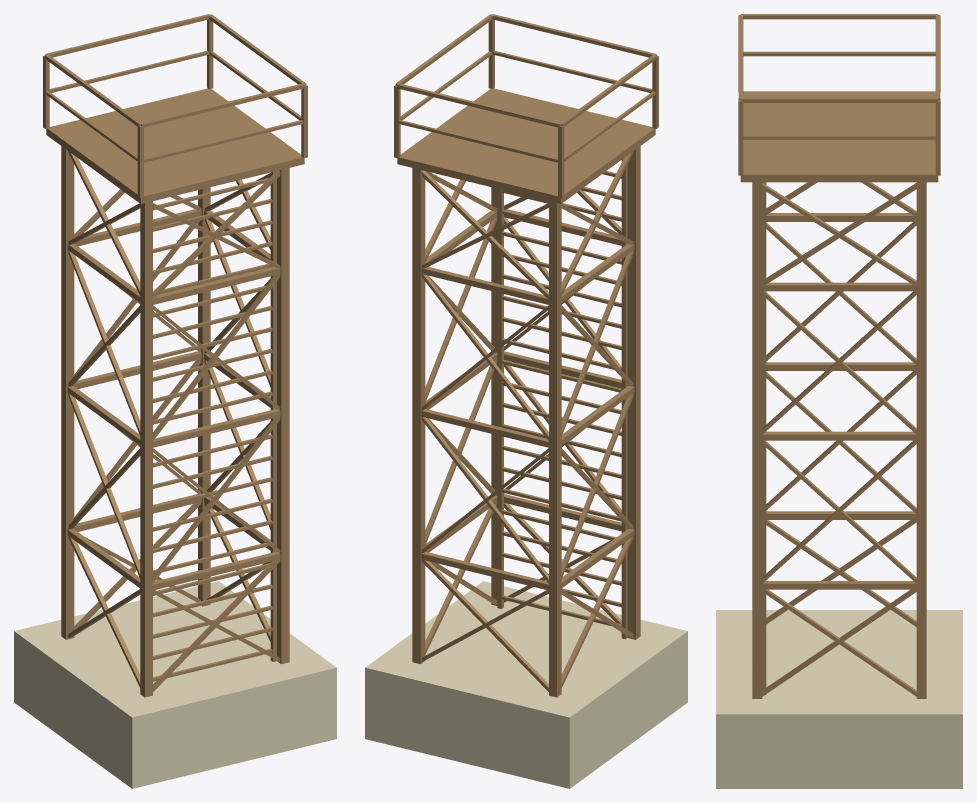
The model's file is observation_tower.glb.
The picture shows the model from 3 angles, left to right: view 1: azimuth 30°, elevation 25°; view 2: azimuth 150°, elevation 25°; view 3: azimuth 270°, elevation 25°; orthographic projection. The views are drawn at different scales.
Visible parts, largest first — view 1: ObsTower_Frame, ObsTower_Base; view 2: ObsTower_Frame, ObsTower_Base; view 3: ObsTower_Frame, ObsTower_Base.
Part boxes in pixels (x1,y1,x2,y2): ObsTower_Frame: (43, 14, 307, 697); ObsTower_Base: (14, 581, 336, 788); ObsTower_Frame: (394, 14, 658, 697); ObsTower_Base: (365, 581, 687, 788); ObsTower_Frame: (738, 14, 940, 698); ObsTower_Base: (716, 610, 962, 788).
Size of the model in its own units: 3 by 9.12 by 3.
